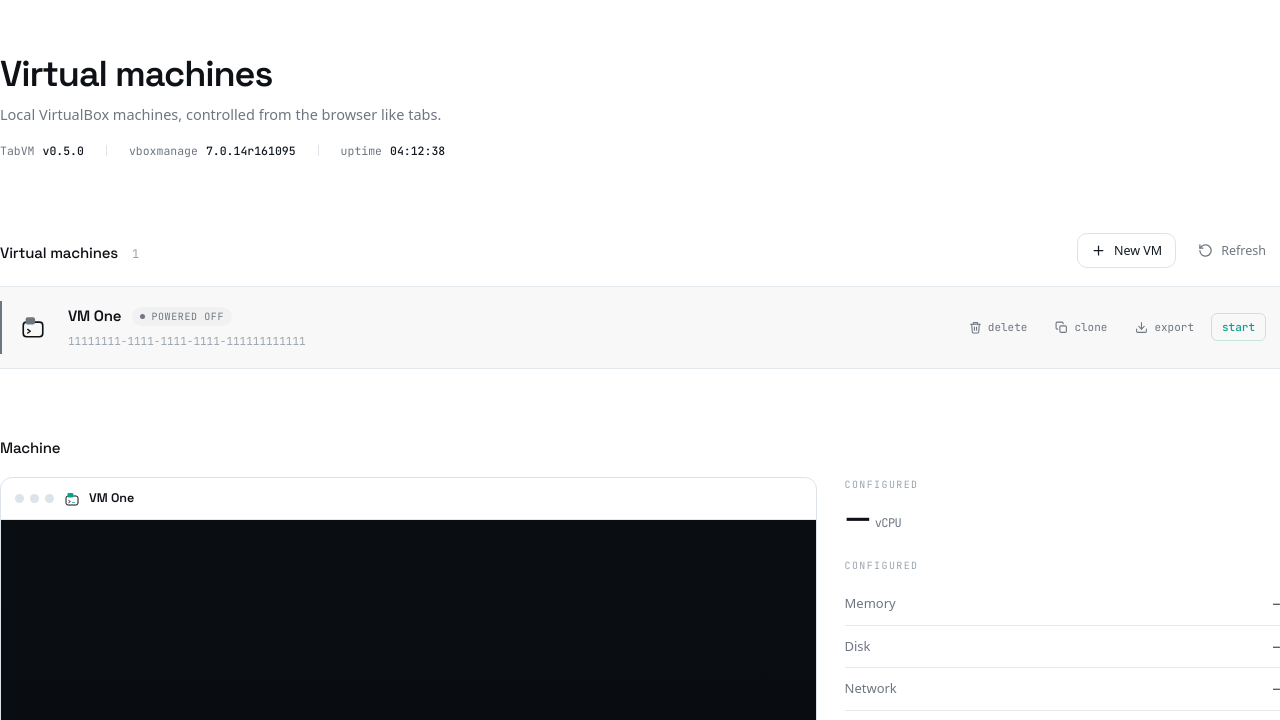
Test: MachinesView › surfaces a clone error and keeps the form open
Click the button with aria-label "Clone VM One" at (1081, 327), box [1044, 313, 1118, 341]
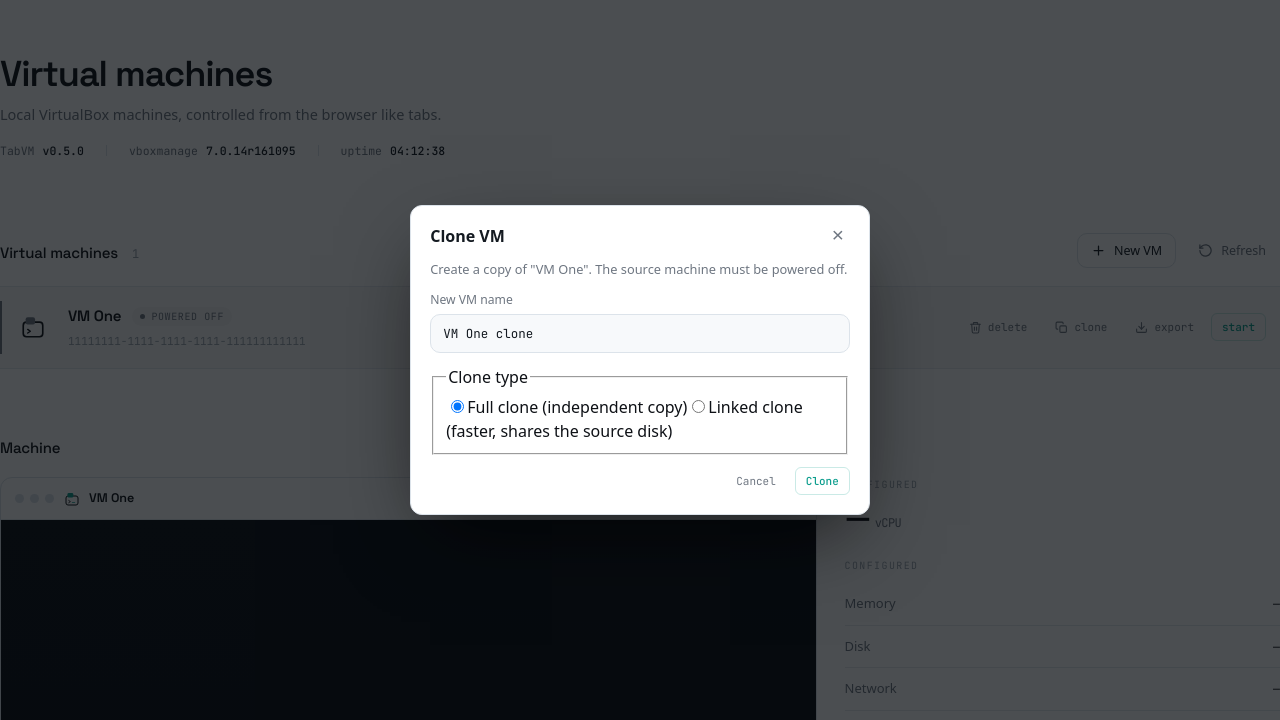
Click the button "Clone" at (822, 481), box [795, 467, 850, 495]
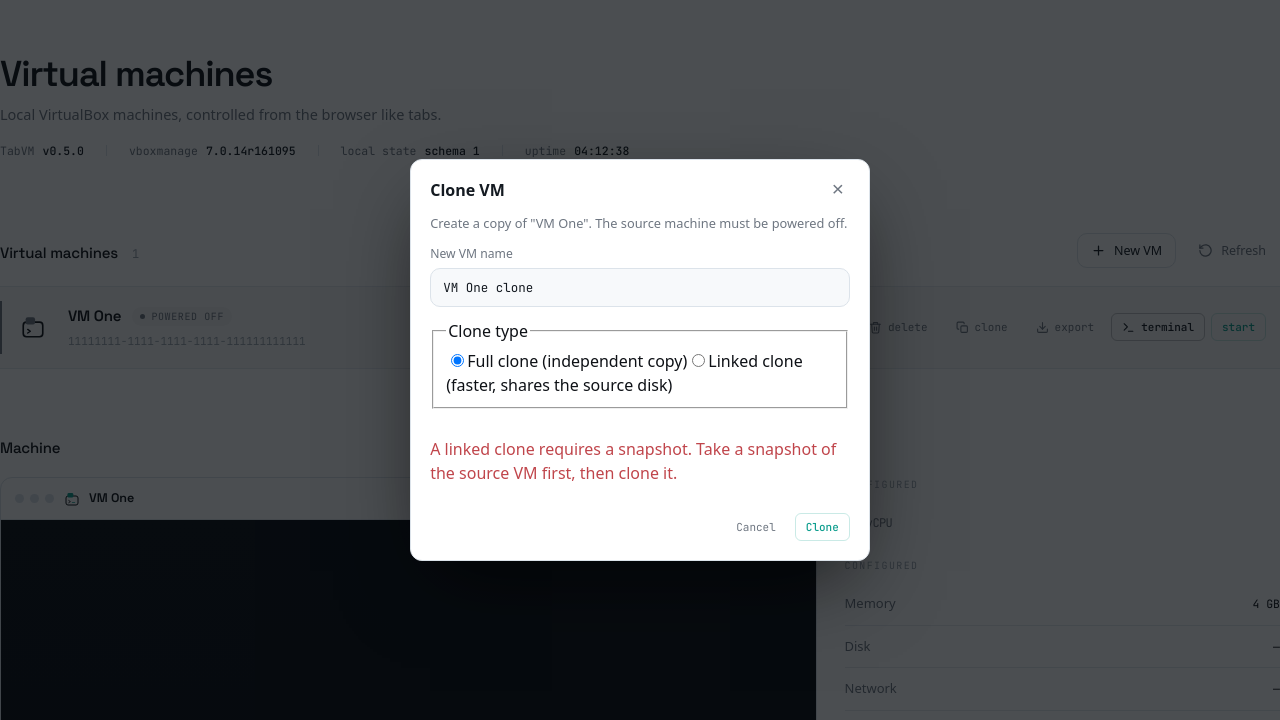
Expected: the text "A linked clone requires a snapshot. Take a snapshot of the source VM first, then clone it." is shown, [430, 438, 836, 484]
